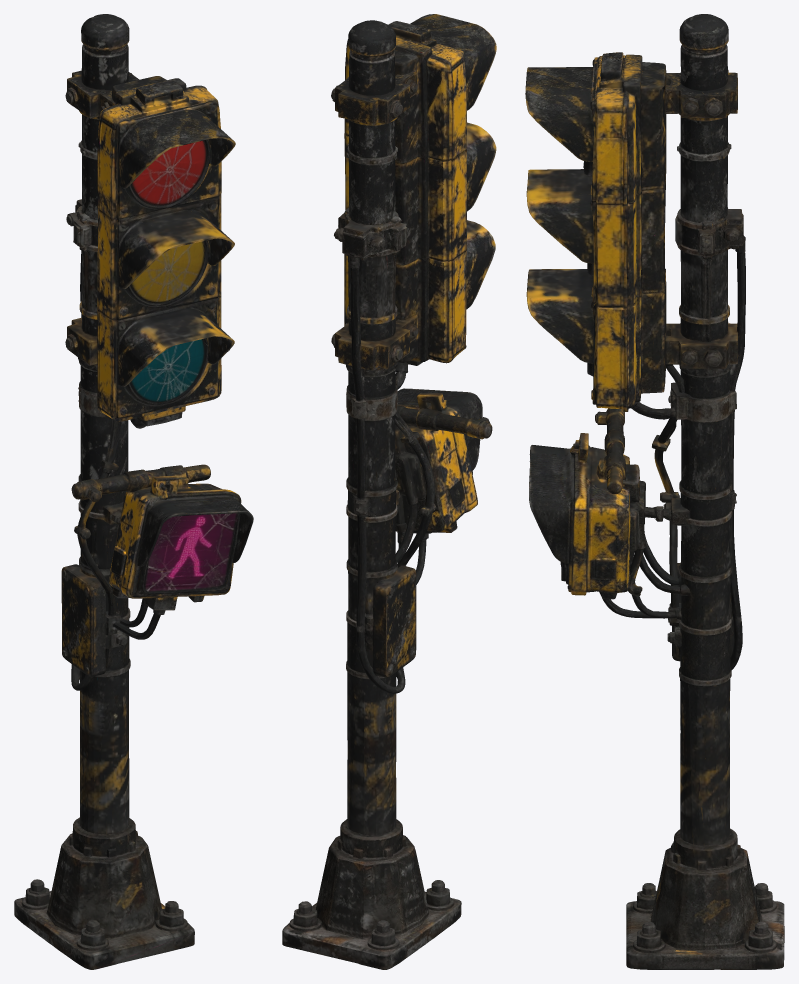
Rendered from traffic_light.glb.
3 views of the same model, side by side, from view 1: azimuth 30°, elevation 25°; view 2: azimuth 150°, elevation 25°; view 3: azimuth 270°, elevation 25° (orthographic). The views are drawn at different scales.
Parts seen in each view (by area): view 1: output_unwrapped; view 2: output_unwrapped; view 3: output_unwrapped.
Part boxes in pixels (x1,y1,x2,y2): output_unwrapped: [14, 14, 253, 969]; output_unwrapped: [282, 14, 496, 969]; output_unwrapped: [525, 14, 784, 969].
Bounding box in the file's own units: 0.3224 × 1.9 × 0.4826.
Materials: 1 (1 with a texture image).
